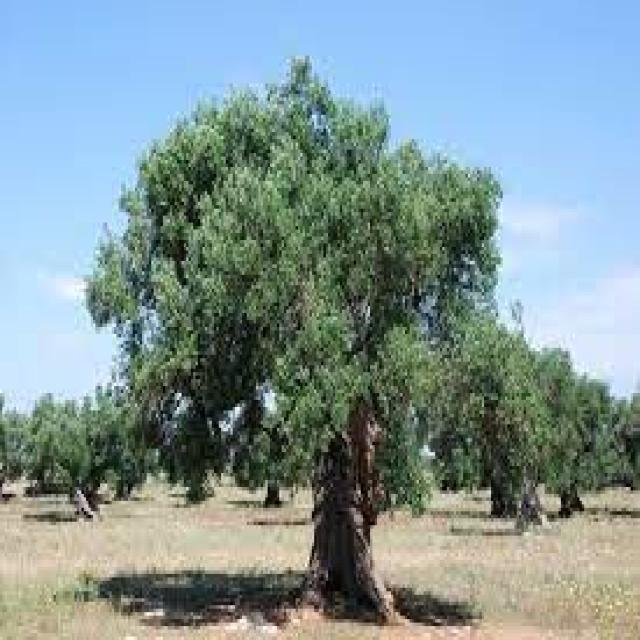olivo: (95, 47, 507, 611), (470, 303, 594, 523), (26, 394, 138, 514)
